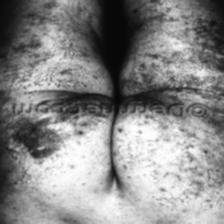Unclassified: (125, 19, 224, 100), (4, 4, 88, 93), (126, 120, 224, 191), (9, 122, 70, 158), (0, 93, 12, 156)
